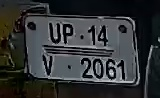0: (92, 56, 105, 80)
1: (115, 58, 130, 82), (87, 22, 97, 48)
2: (80, 56, 94, 79)
4: (97, 24, 110, 48)
6: (105, 57, 118, 81)
P: (61, 23, 75, 46)
U: (47, 21, 62, 44)
V: (37, 53, 59, 78)
